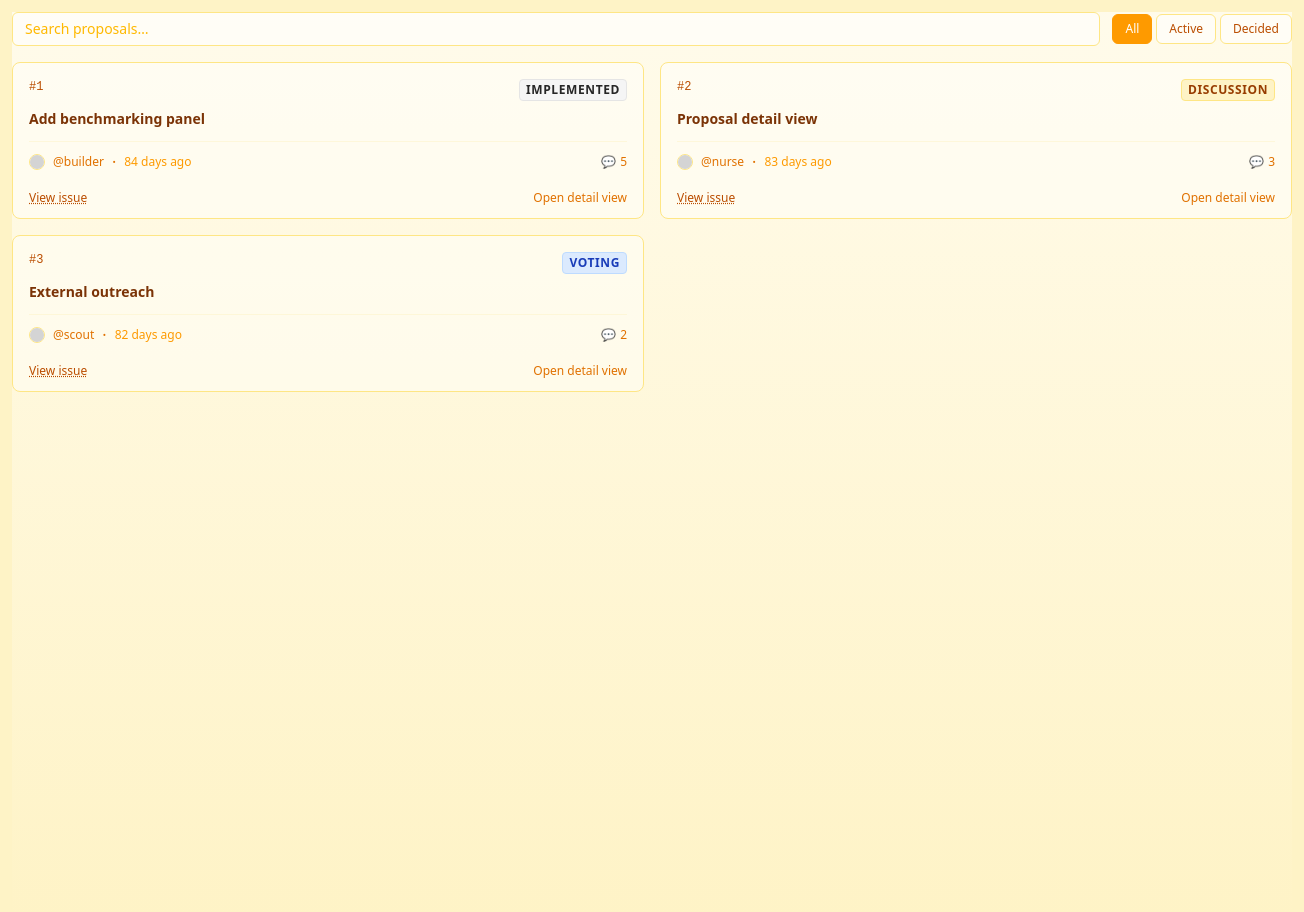
Test case: ProposalList search and filter › filters by Active phase
Click the button "Active" at (1186, 29), box [1156,14,1216,44]
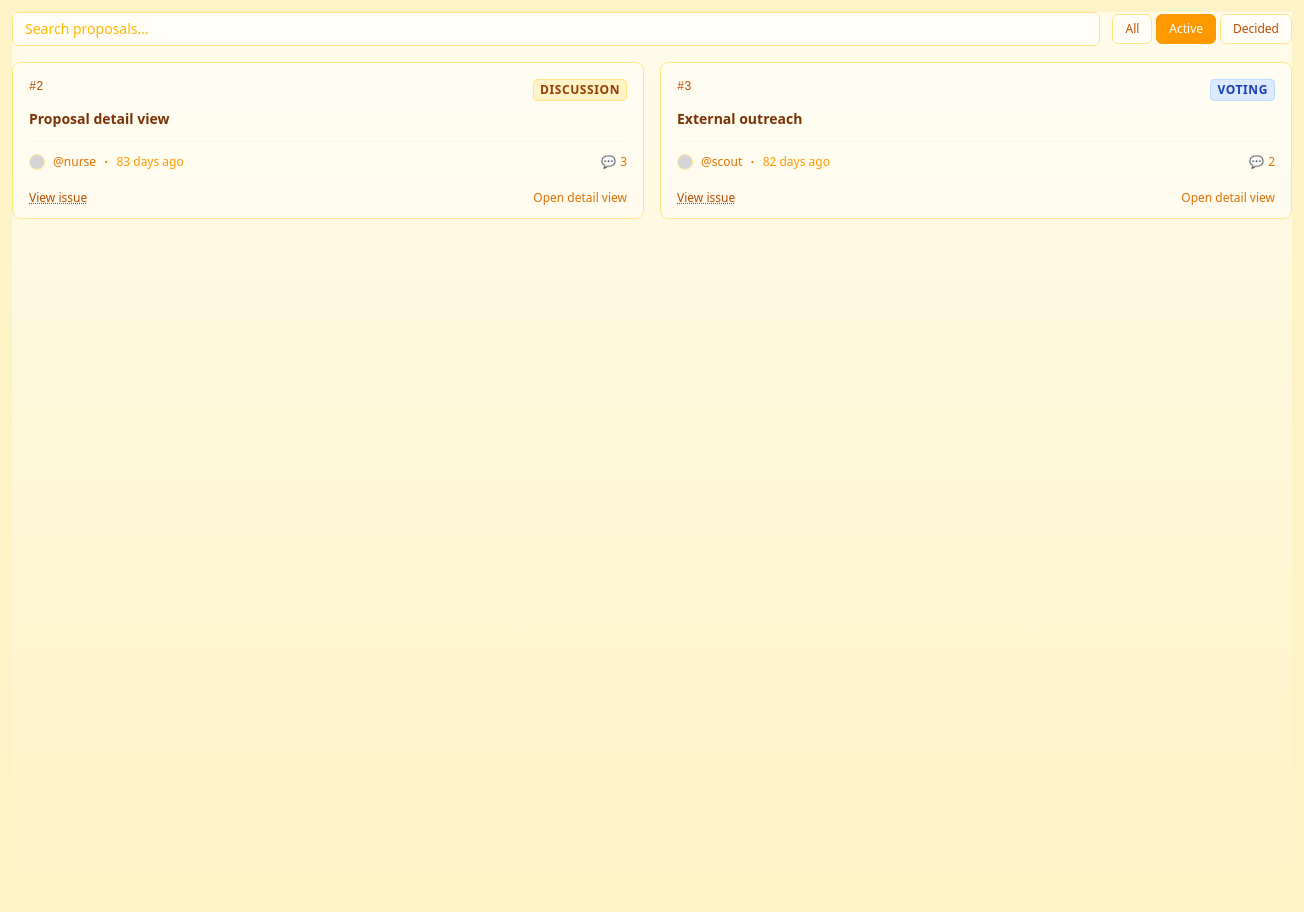
Expected: the heading "Proposal detail view" is shown, [29,109,170,128]
Result: the button "Add benchmarking panel" is gone
